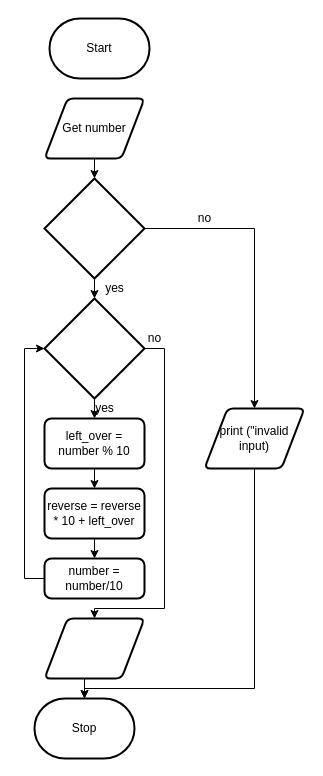
The diagram is 323 pixels wide and 776 high, and some of its shapes have lost their labels. The centre of each missing label's shape, as x and y in pixels:
Display answer: the point at 94,648
Try int(number): the point at 94,228
while number > 0: the point at 94,348
